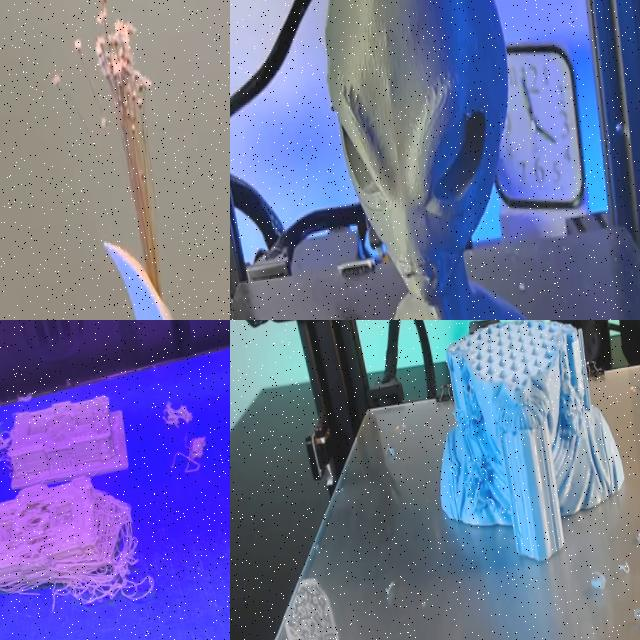spaghetti: (3, 491, 176, 640), (144, 371, 214, 477)
